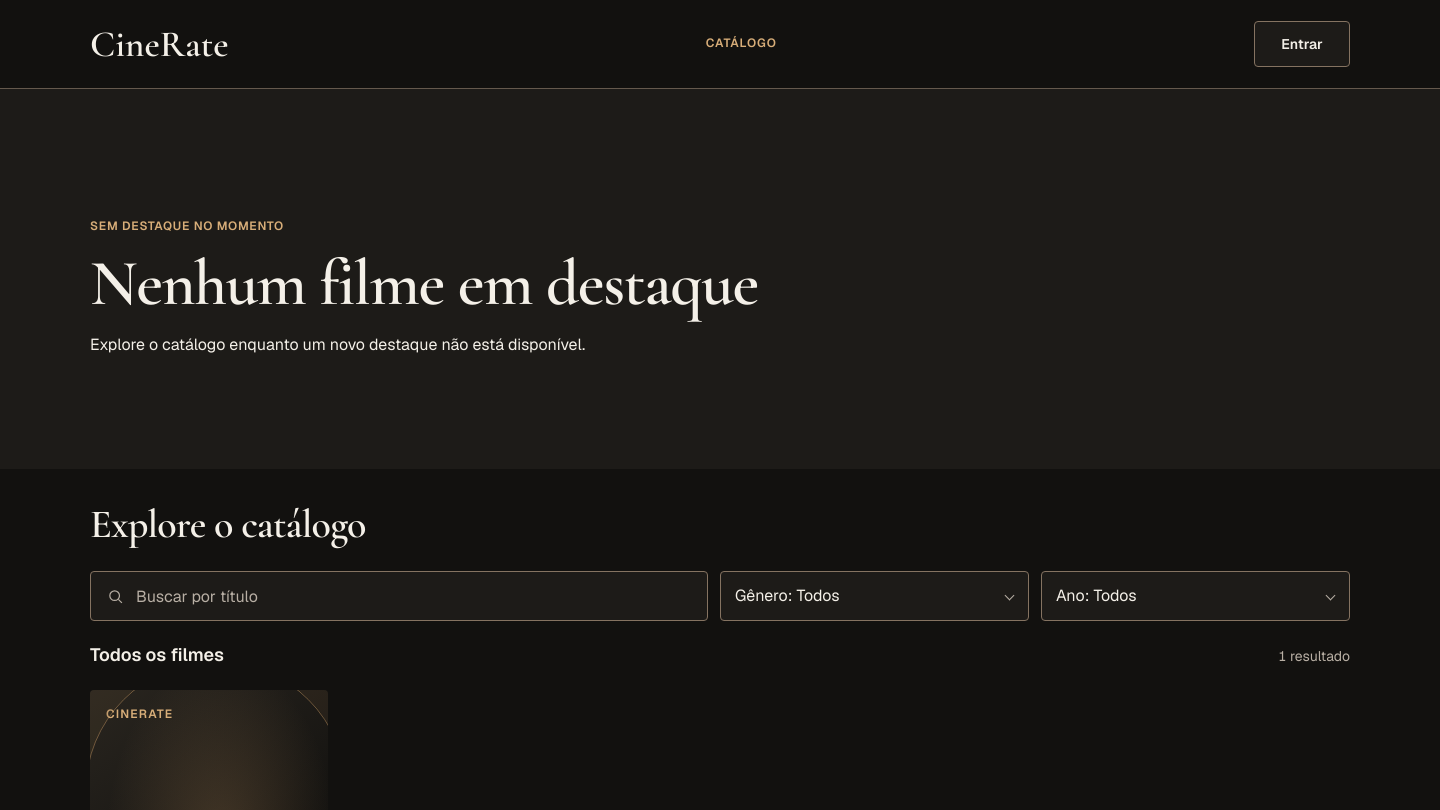
Test: clique em Entrar mantém o modal aberto no StrictMode do aplicativo
This screenshot has width=1440, height=810.
Click the button "Entrar": (1302, 44) [1254,21,1350,67]
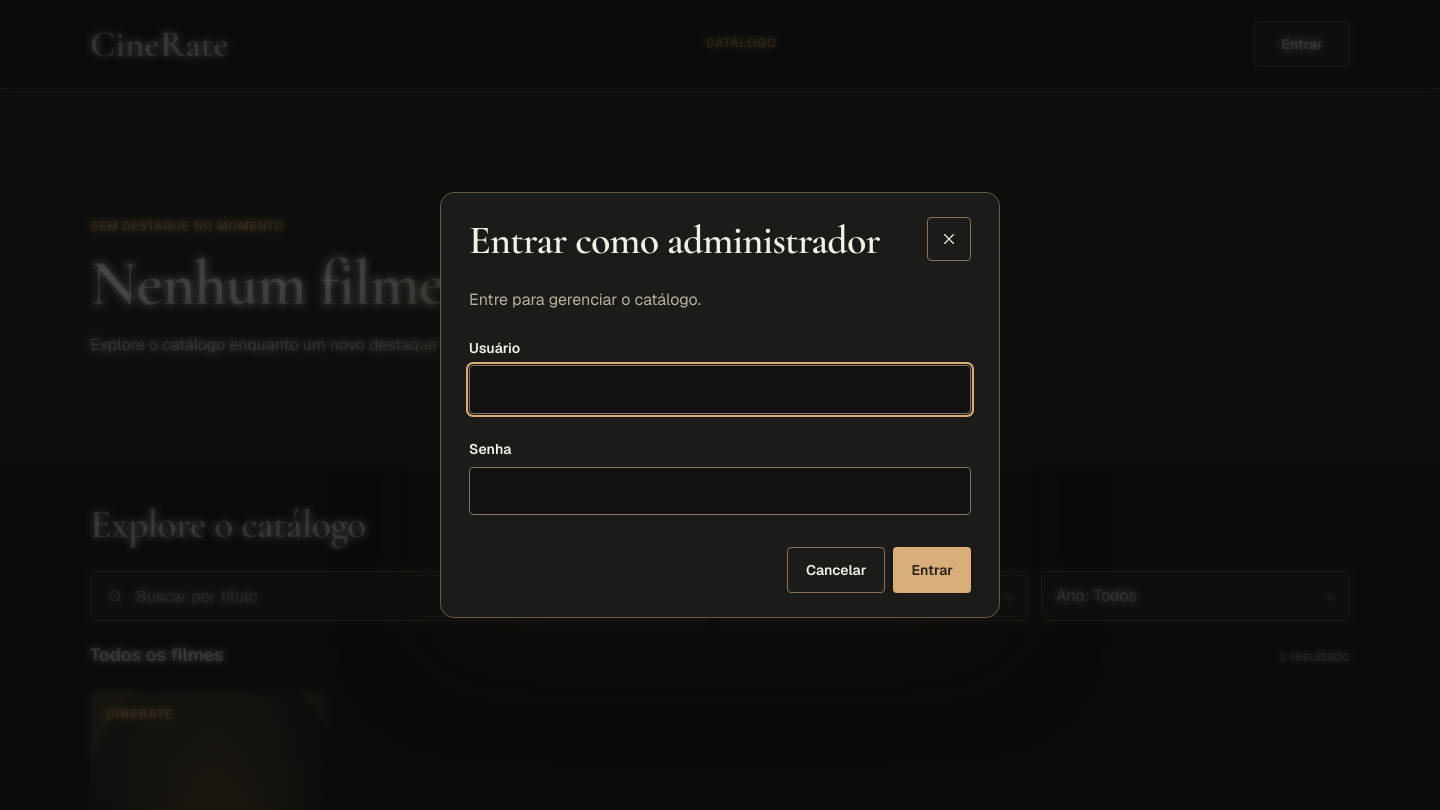
Expected: the dialog "Entrar como administrador" is shown, [440,192,1000,618]
